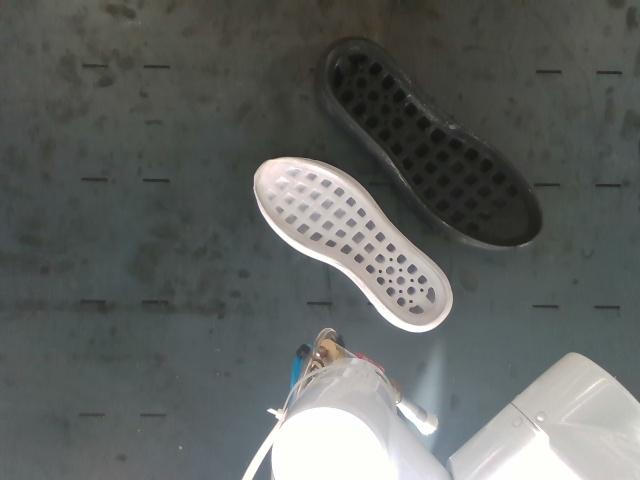shoes: (324, 41, 544, 246), (254, 160, 447, 326)
